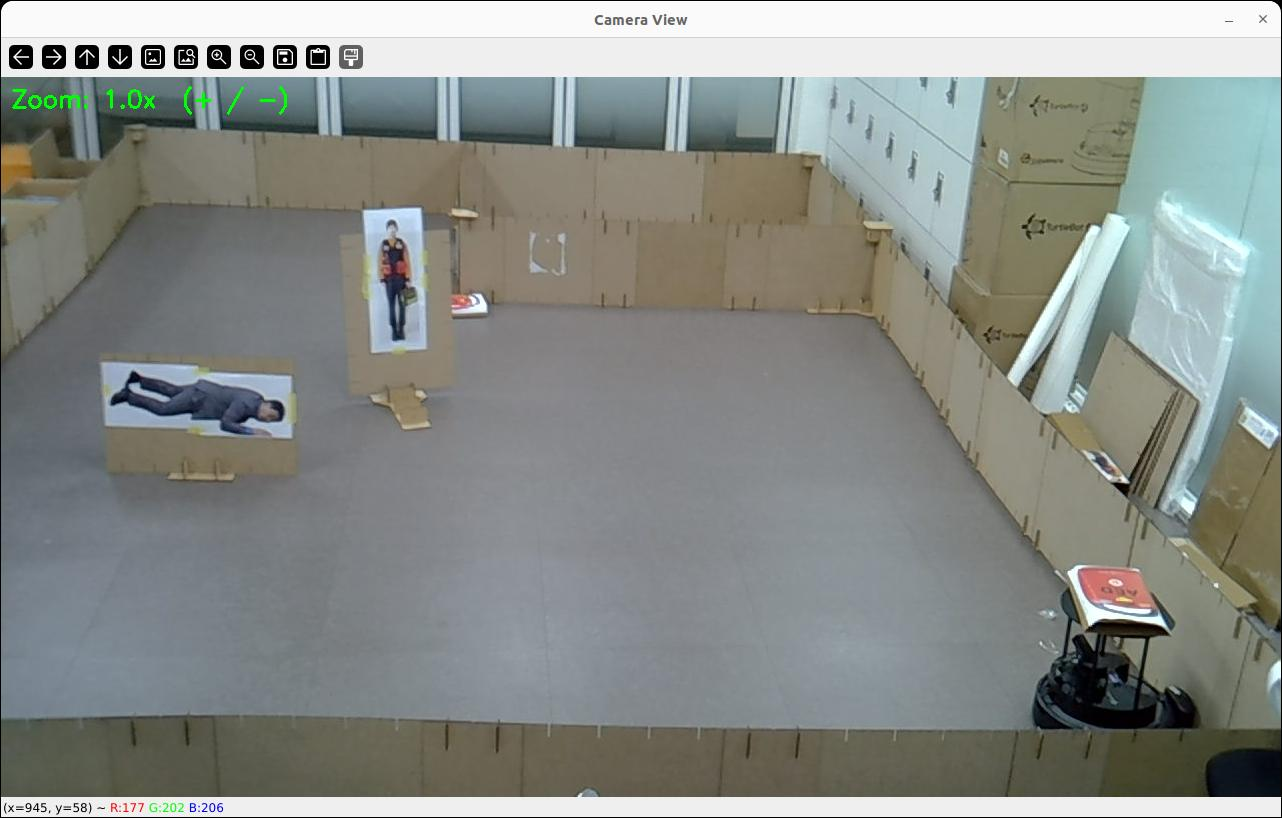AED: (1067, 565, 1170, 636), (452, 293, 488, 317)
Patient: (112, 371, 283, 436)
Responder: (379, 220, 410, 340)
Robot: (1033, 631, 1196, 728)
